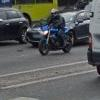Motorcycle: (29, 10, 79, 59)
